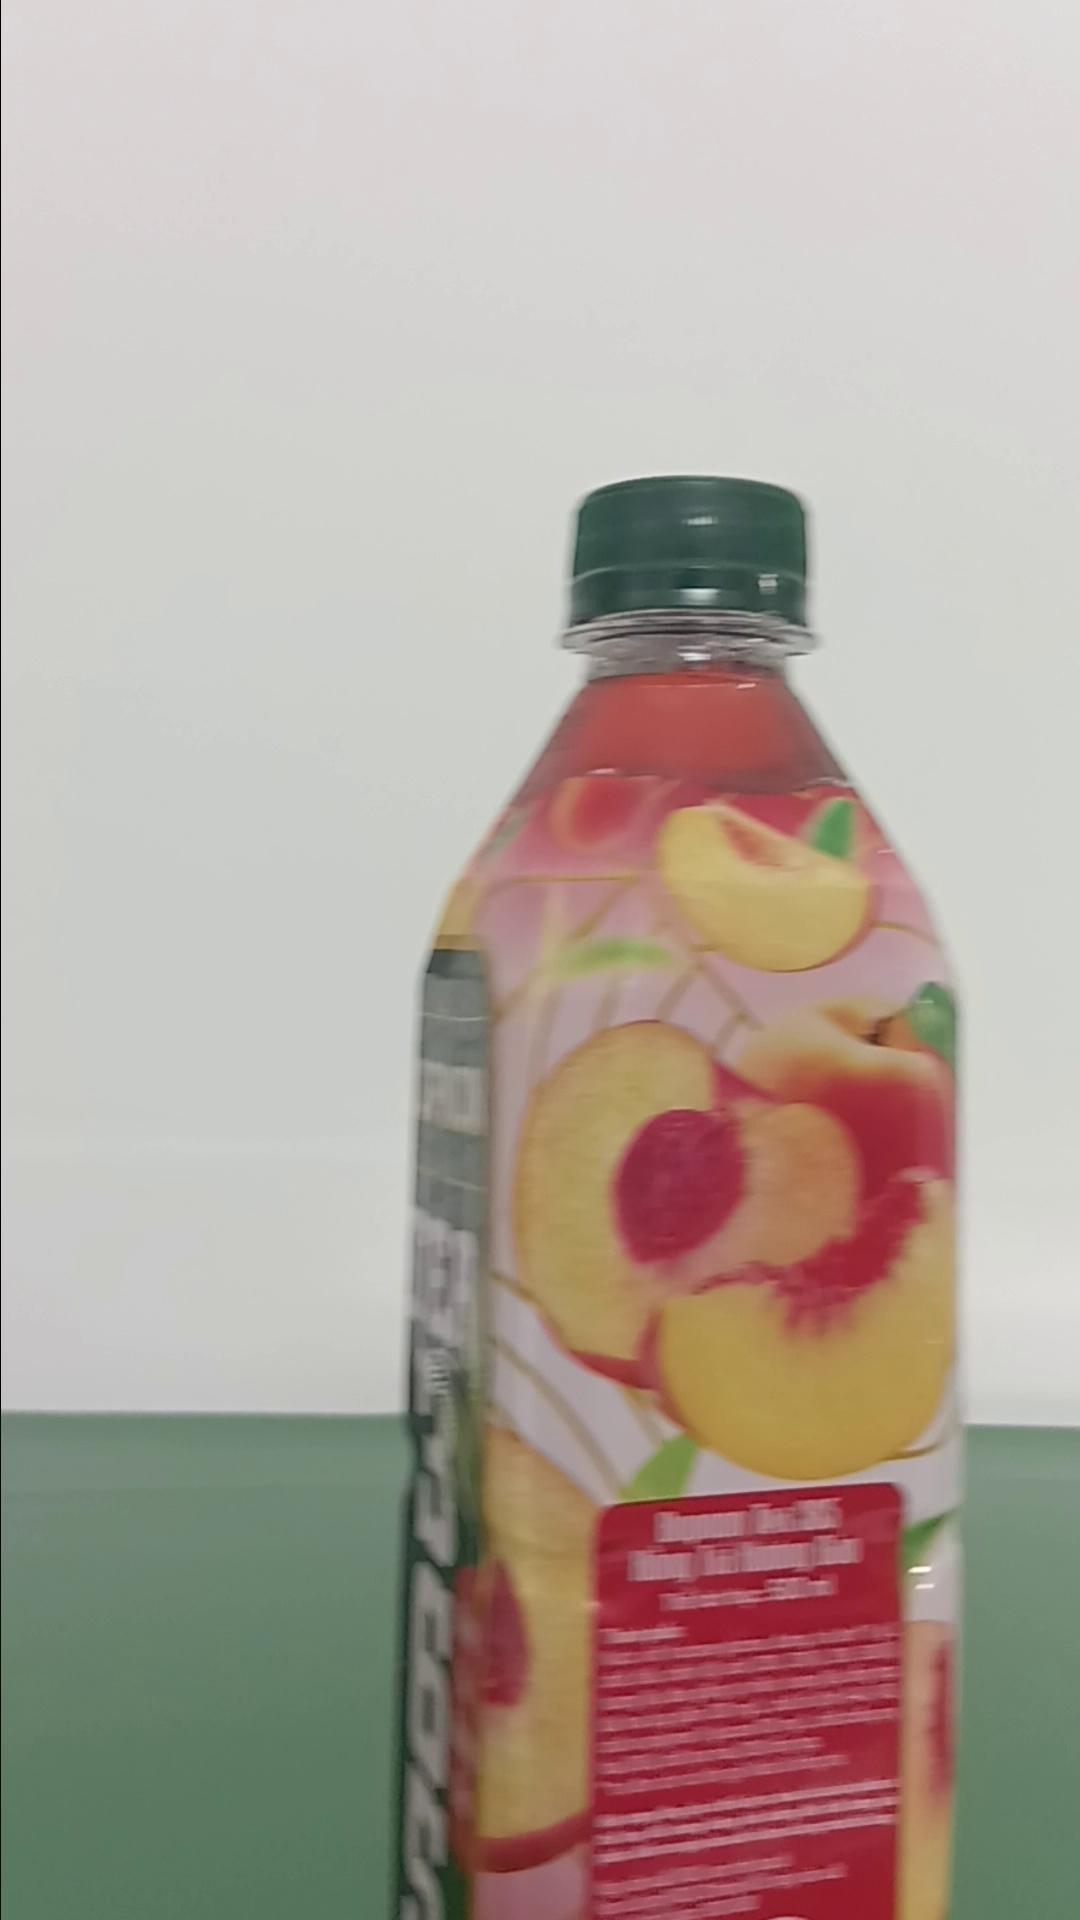khong loi: (394, 472, 967, 1913)
